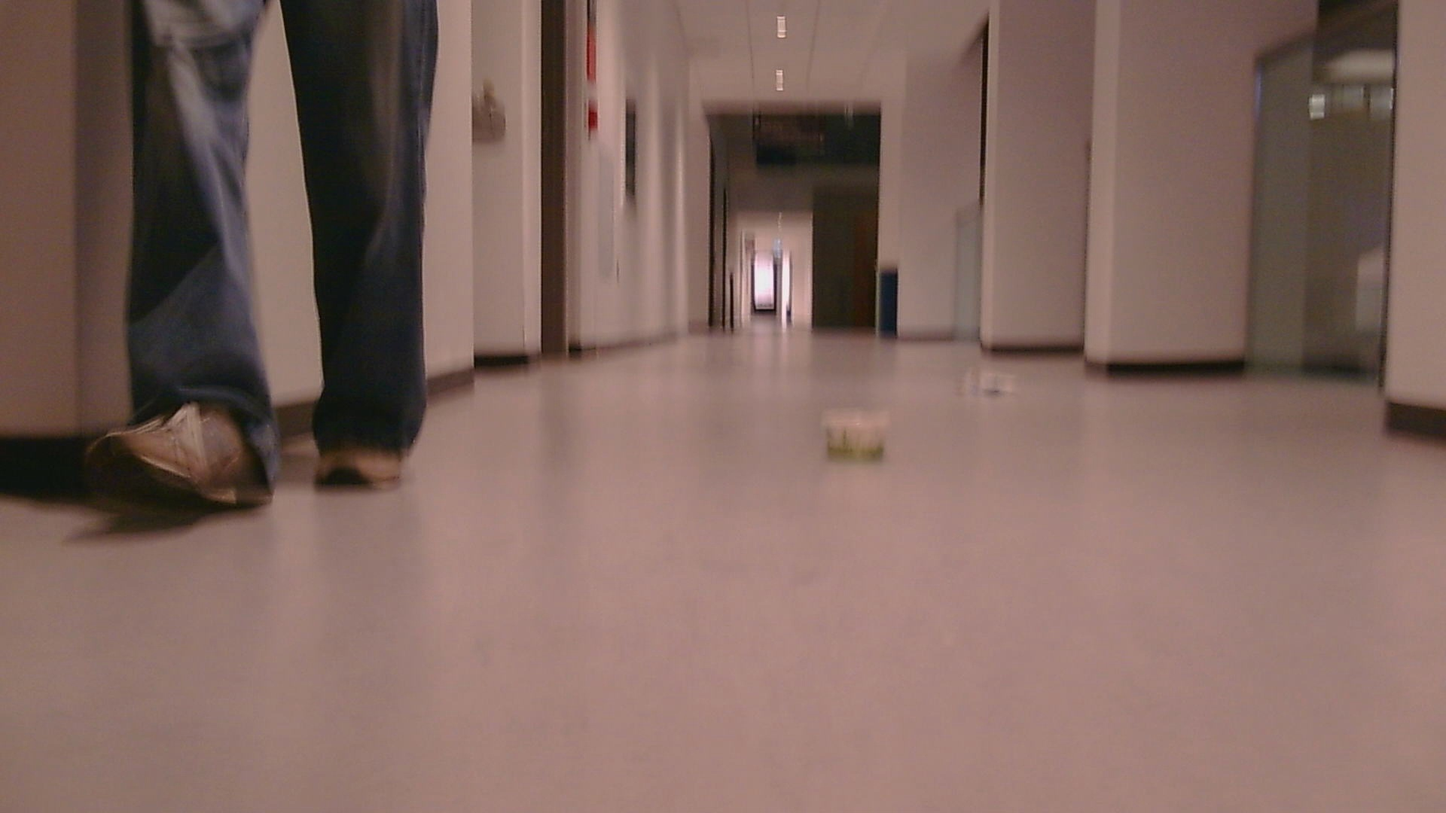carton: (818, 402, 905, 461), (956, 358, 1037, 391)
